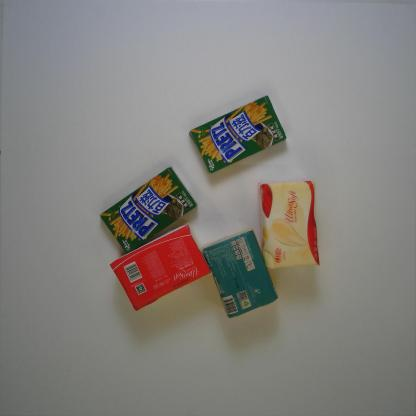Dessert: (98, 166, 198, 256), (189, 94, 288, 175)
Tissue: (109, 220, 213, 313), (201, 227, 279, 319), (258, 180, 320, 270)
